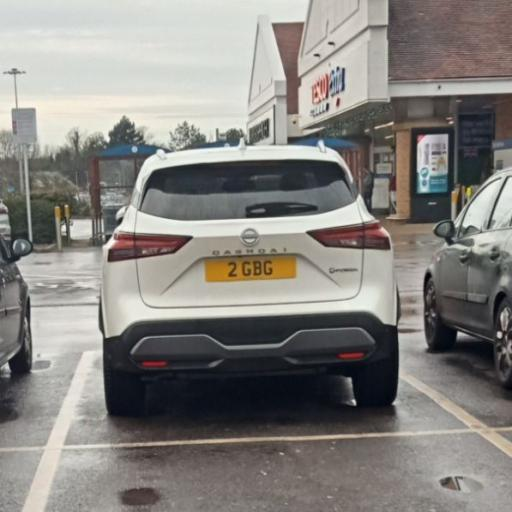numberplates: (205, 257, 297, 282)
